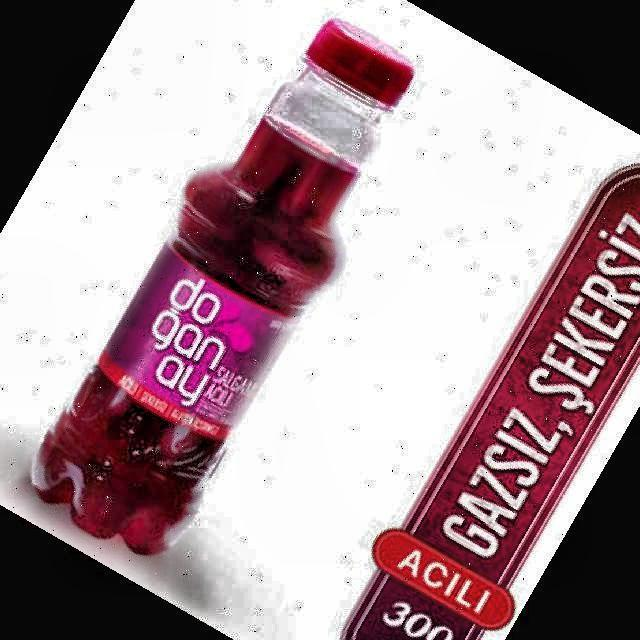plastic: (32, 20, 412, 554)
